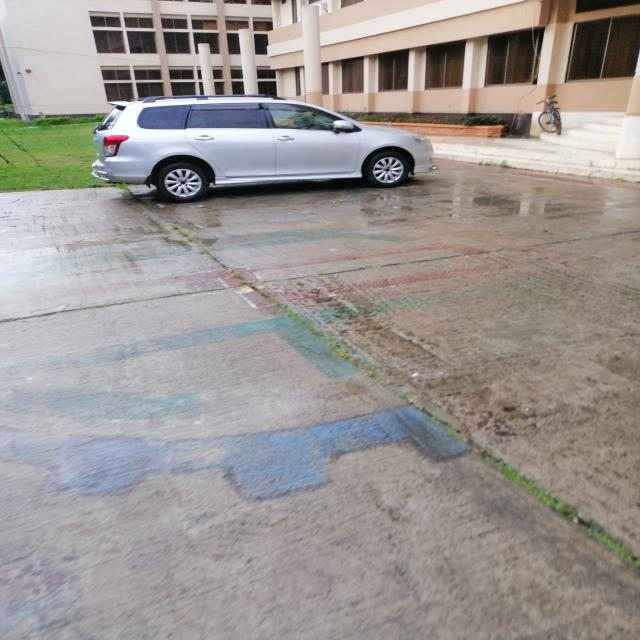Bicycle: (532, 92, 572, 141)
Car: (90, 94, 440, 205)
